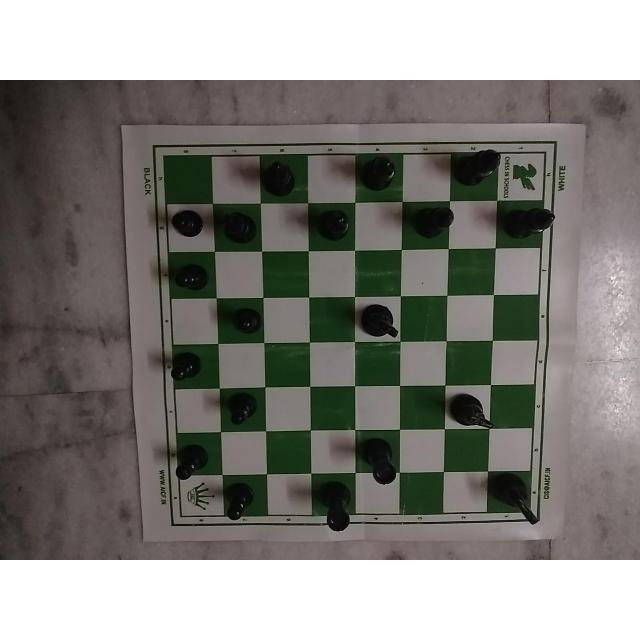black-bishop: (455, 143, 506, 189), (504, 204, 560, 243), (312, 205, 357, 247), (260, 157, 303, 199), (217, 210, 263, 246), (363, 151, 399, 193), (413, 203, 456, 235)
black-knight: (492, 479, 545, 528), (444, 390, 498, 433), (357, 300, 407, 342)
black-pawn: (213, 478, 261, 522), (224, 303, 270, 342), (168, 264, 216, 299), (164, 207, 210, 239), (174, 442, 210, 482), (228, 389, 264, 429), (166, 348, 201, 385)
black-rook: (318, 480, 354, 536), (366, 441, 400, 485)
